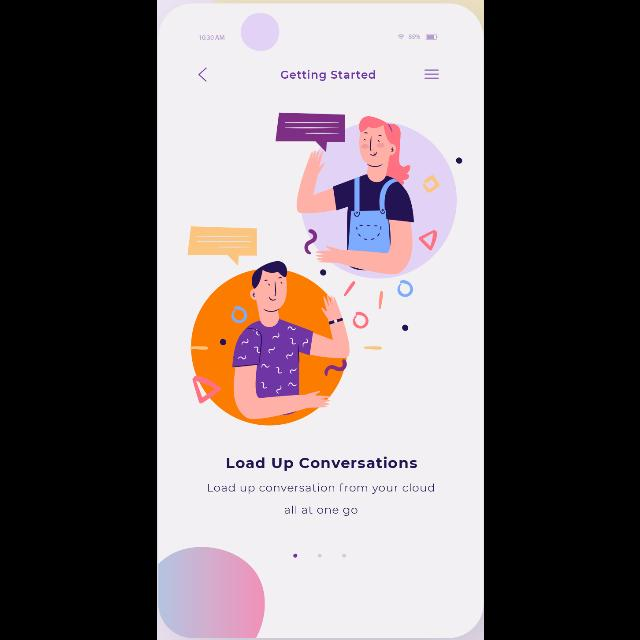icon: (424, 69, 440, 79), (198, 68, 206, 82)
image: (186, 112, 462, 426)
pageindicator: (292, 554, 346, 558)
text: (208, 484, 434, 516), (227, 456, 418, 472), (280, 70, 374, 82)
uppertaskbar: (198, 34, 438, 40)
